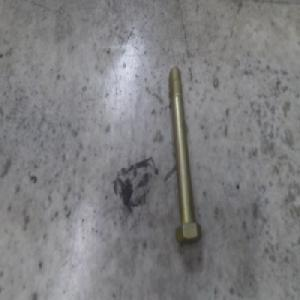Bolt: (170, 71, 206, 248)
